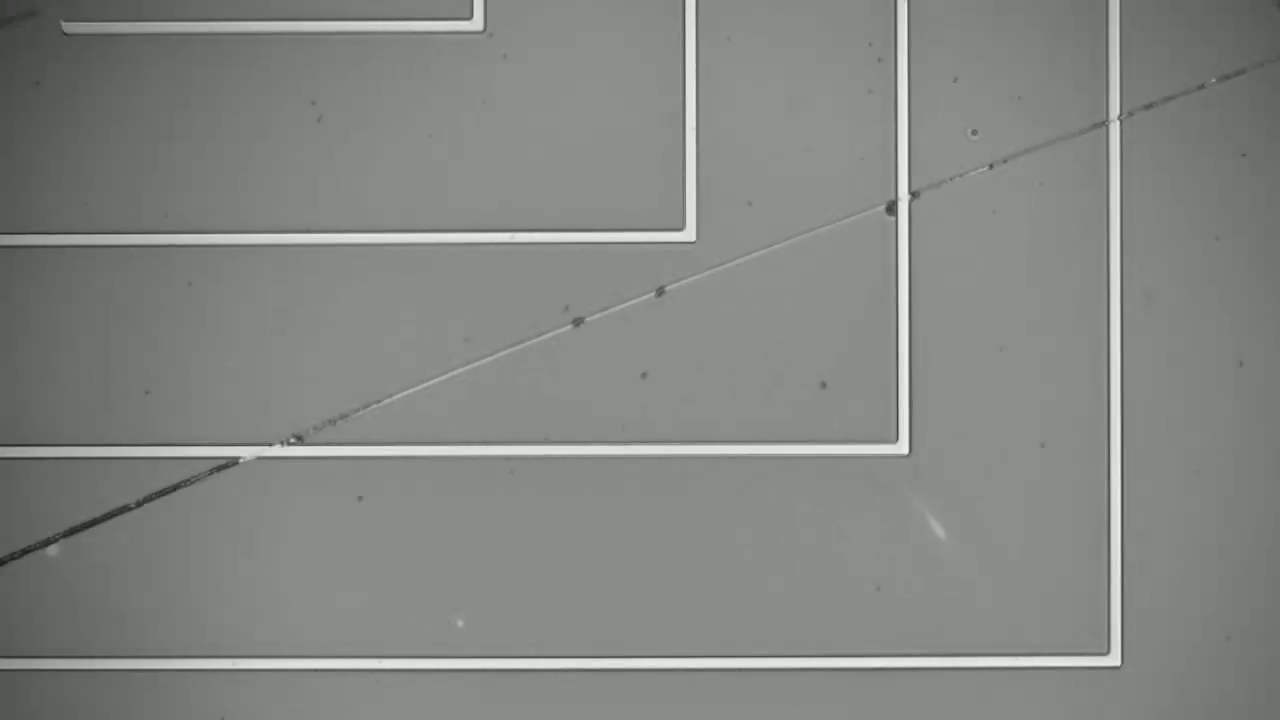scratch: (12, 60, 1264, 560)
